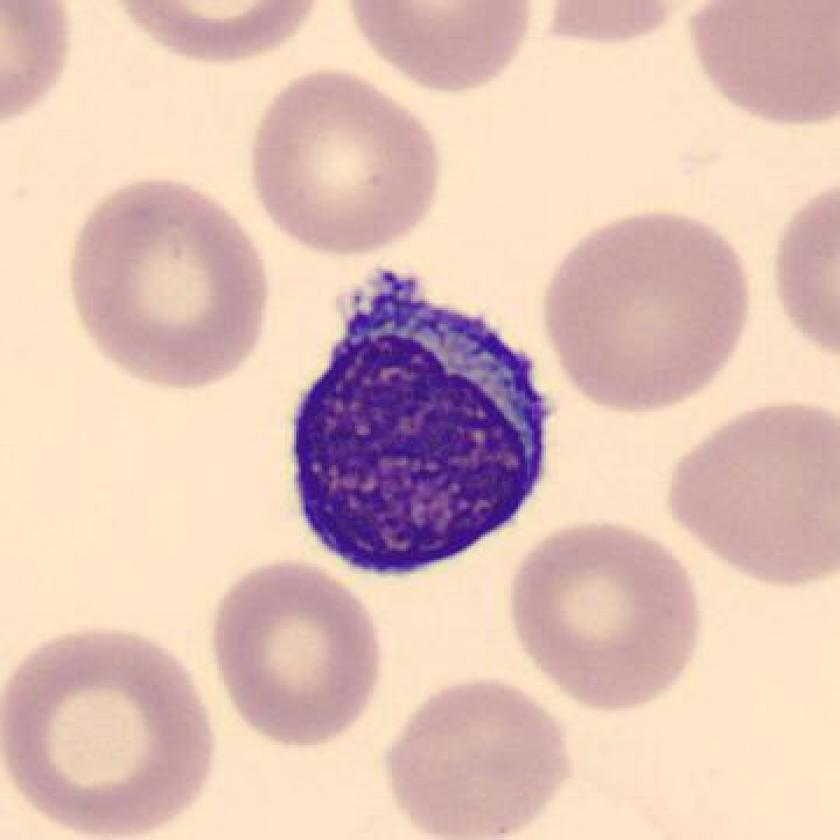lymphocyte: (277, 253, 571, 598)
